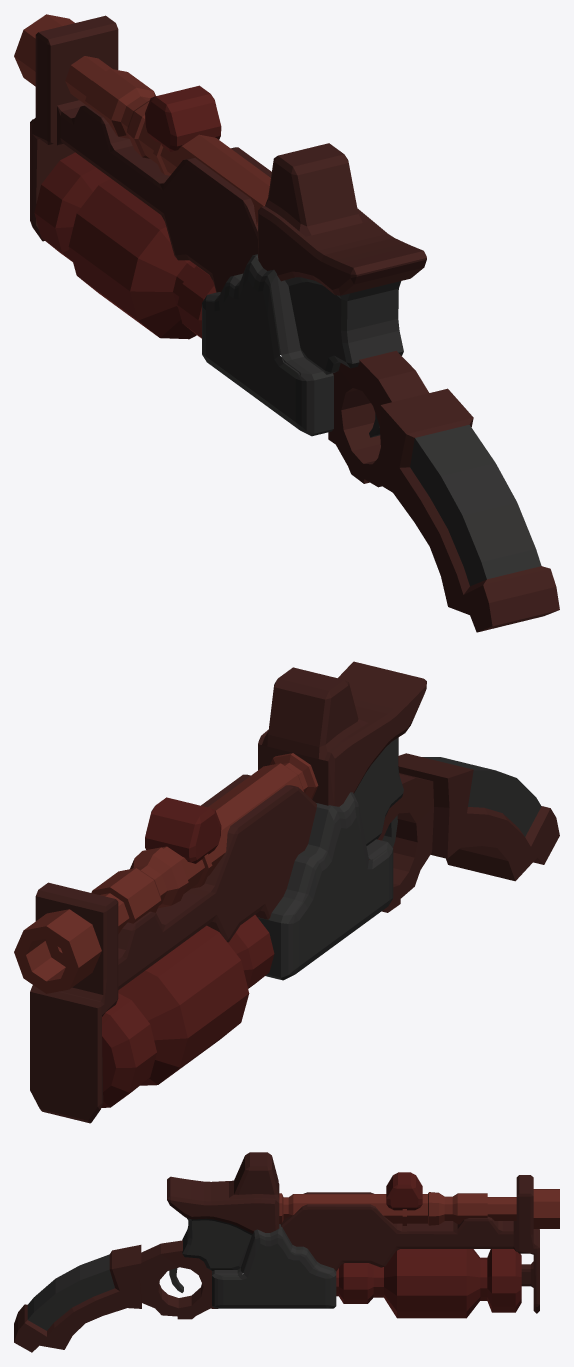
Rendered from scene_L1tgGE2E7c.glb.
3 renders of one model, top to bottom at view 1: azimuth 30°, elevation 25°; view 2: azimuth 150°, elevation 25°; view 3: azimuth 270°, elevation 25°, orthographic. The views are drawn at different scales.
Visible parts, largest first — view 1: LongPistol_small; view 2: LongPistol_small; view 3: LongPistol_small.
Boxes of the visible parts, x1=… form: LongPistol_small: x1=14, y1=14, x2=559, y2=632; LongPistol_small: x1=14, y1=661, x2=559, y2=1123; LongPistol_small: x1=14, y1=1152, x2=559, y2=1352.
Size of the model in its own units: 0.6385 by 1.66 by 4.45.
